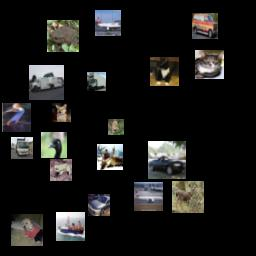airplane: (134, 182, 163, 211), (95, 10, 121, 36)
automobile: (148, 141, 186, 179), (192, 13, 218, 39), (88, 194, 110, 216)
bird: (2, 103, 31, 132), (41, 132, 67, 158)
cat: (150, 57, 179, 86), (195, 50, 224, 79)
deer: (172, 181, 204, 213), (97, 144, 123, 170)
dog: (11, 214, 43, 246), (52, 103, 71, 122)
frog: (47, 20, 79, 52), (50, 159, 72, 181), (108, 119, 124, 135)
ship: (56, 212, 85, 241)
truck: (29, 65, 64, 100), (11, 137, 33, 159), (87, 72, 106, 91)
